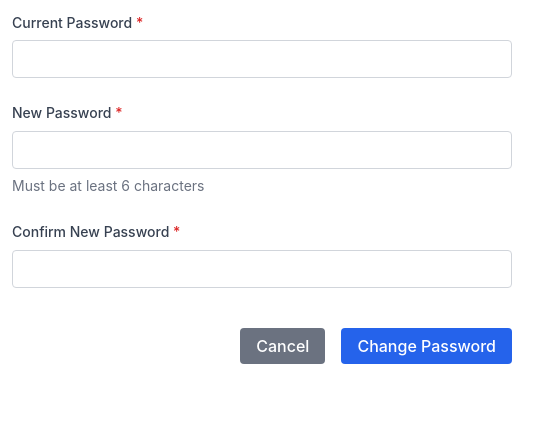
PasswordChangeForm - Real-time Validation › should not submit form when validation errors exist
This screenshot has width=533, height=437.
Note: Try to submit without filling required fields
Click the button "Change Password" at (427, 346), box [341, 328, 512, 364]
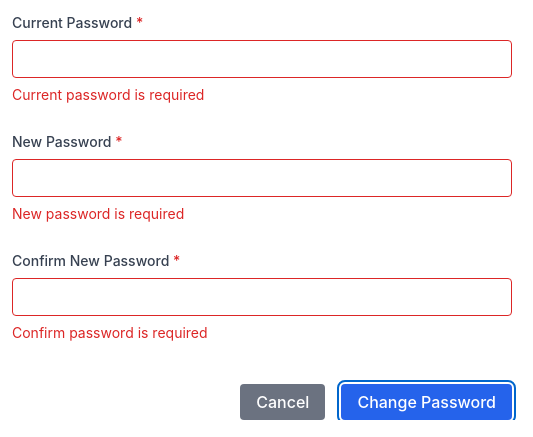
Check: the text "Current password is required" is shown, box [12, 86, 204, 103]
Check: the text "New password is required" is shown, box [12, 205, 184, 222]
Check: the text "Confirm password is required" is shown, box [12, 324, 208, 341]
